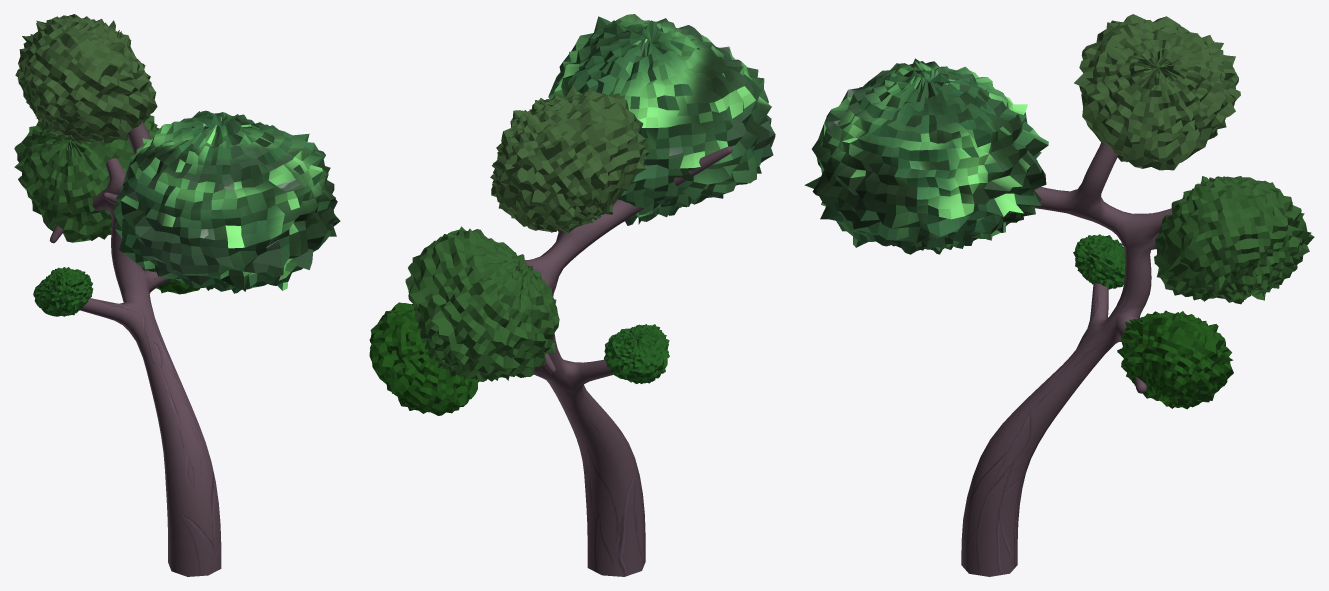
The model's file is tree.glb.
3 renders of one model, left to right at view 1: azimuth 30°, elevation 25°; view 2: azimuth 150°, elevation 25°; view 3: azimuth 270°, elevation 25°, orthographic. The views are drawn at different scales.
Parts seen in each view (by area): view 1: Sphere, Plane, Sphere.001, Sphere.003, Sphere.004; view 2: Sphere, Sphere.003, Sphere.001, Plane, Sphere.002, Sphere.004; view 3: Sphere, Plane, Sphere.001, Sphere.003, Sphere.002, Sphere.004.
Boxes of the visible parts, x1,y1,x2,y2 form: Sphere: [113, 110, 340, 293]; Plane: [49, 120, 221, 576]; Sphere.001: [15, 14, 157, 146]; Sphere.003: [14, 115, 159, 242]; Sphere.004: [33, 267, 93, 316]; Sphere: [548, 14, 775, 225]; Sphere.003: [405, 226, 559, 381]; Sphere.001: [490, 85, 649, 232]; Plane: [524, 146, 732, 576]; Sphere.002: [369, 302, 479, 415]; Sphere.004: [604, 324, 669, 383]; Sphere: [804, 58, 1048, 254]; Plane: [961, 142, 1172, 576]; Sphere.001: [1074, 14, 1240, 170]; Sphere.003: [1154, 176, 1314, 304]; Sphere.002: [1117, 310, 1233, 409]; Sphere.004: [1073, 234, 1125, 289].
Size of the model in its own units: 2.3 by 4.67 by 4.15.
Materials: 6 (6 with a texture image).
